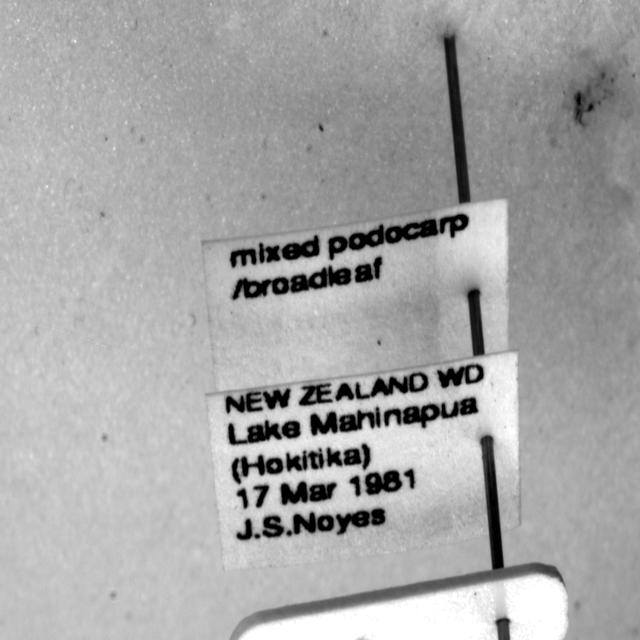typed_label: (206, 351, 520, 570), (202, 199, 509, 392)
